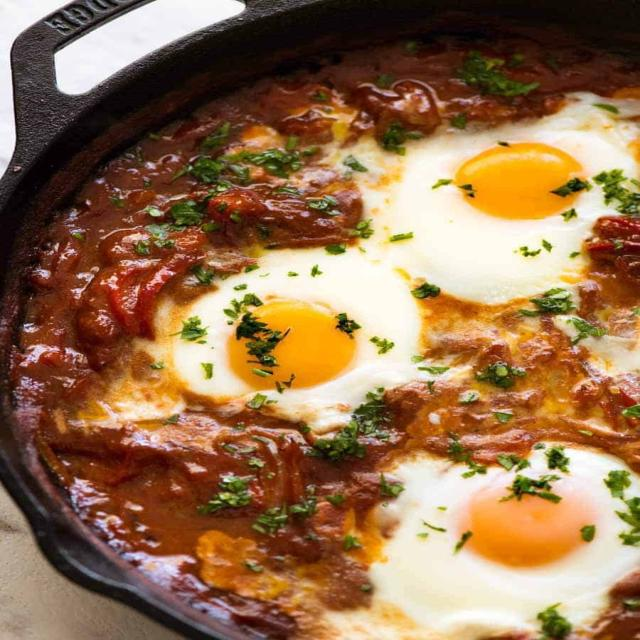eggs: (389, 447, 638, 640), (420, 123, 614, 301), (174, 270, 377, 425)
